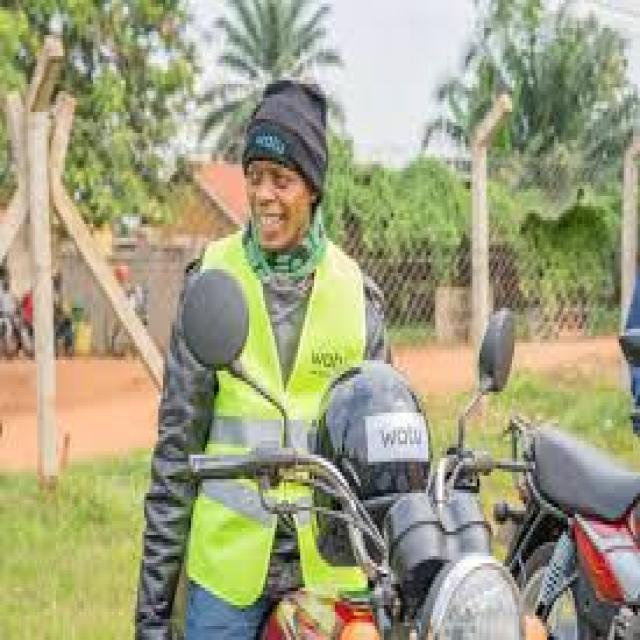bodaboda: (135, 236, 604, 640)
